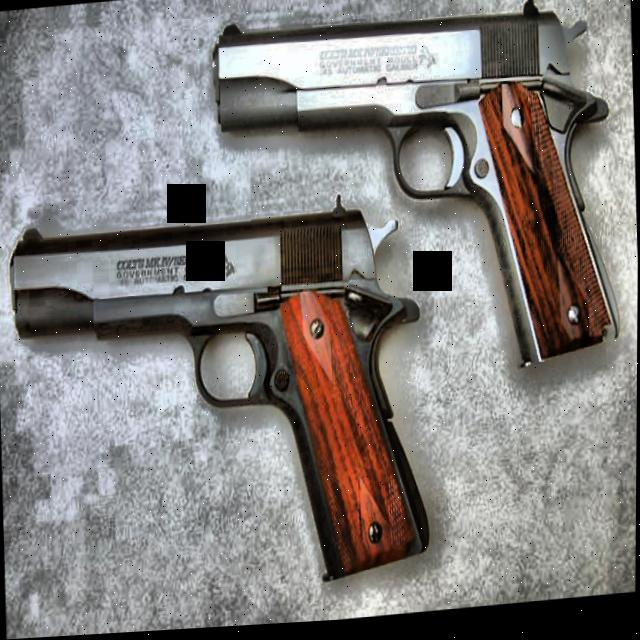Colt m1911: (5, 188, 433, 612), (207, 0, 624, 401)
